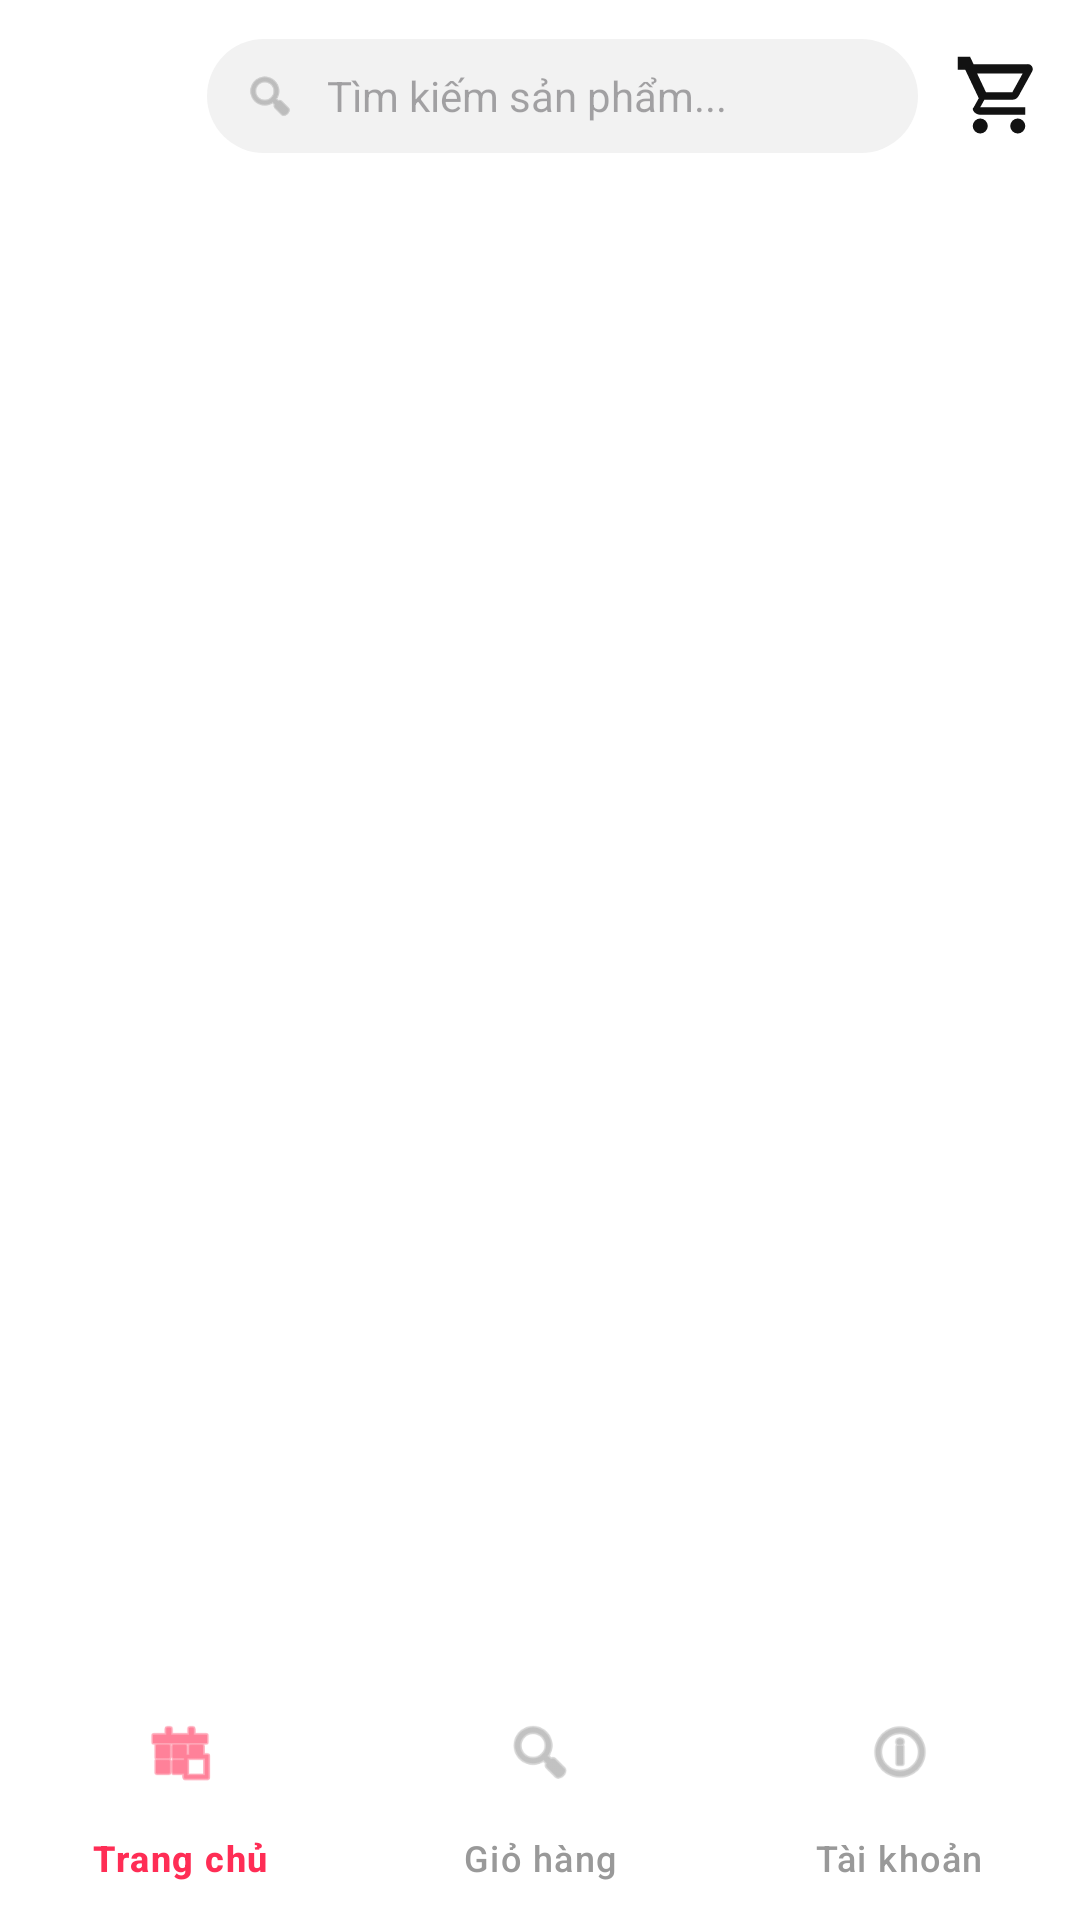

Icon click points for this 1080*1920 phone screenshot, format (x,y):
cart: (995,95)
search: (270,96)
